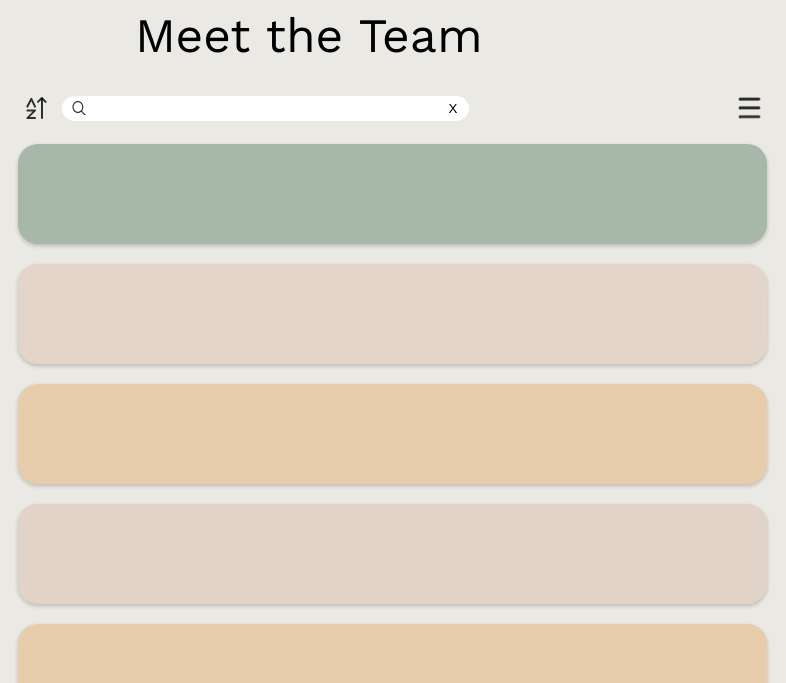
Test: if search "test-1 user-1", you should only see 1 result been listed out
Step 1. Type "test-1" into the field with test id "search" → (265,108), box [62,96,468,121]
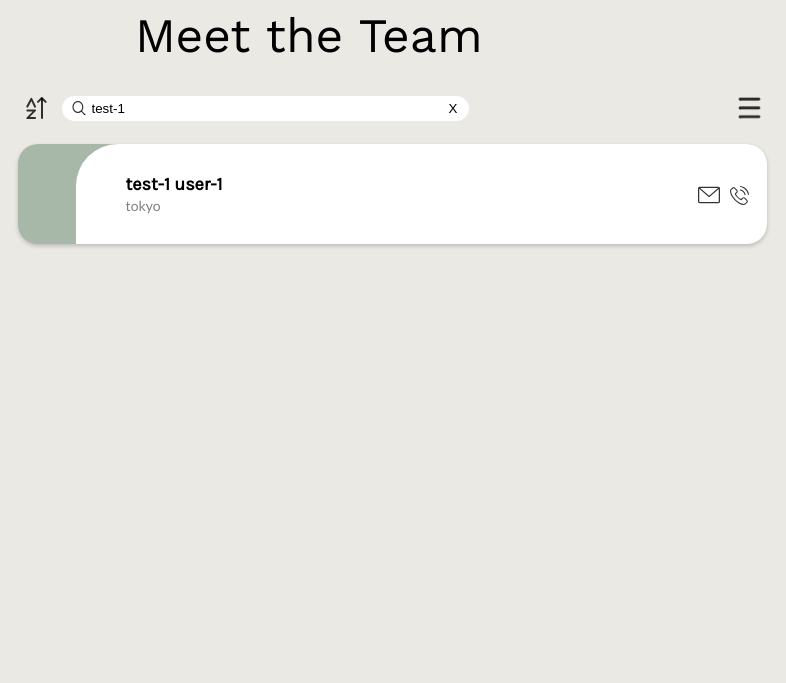
Result: the element with test id "list-card-1" shows "test-1 user-1" at [18,144,766,244]
